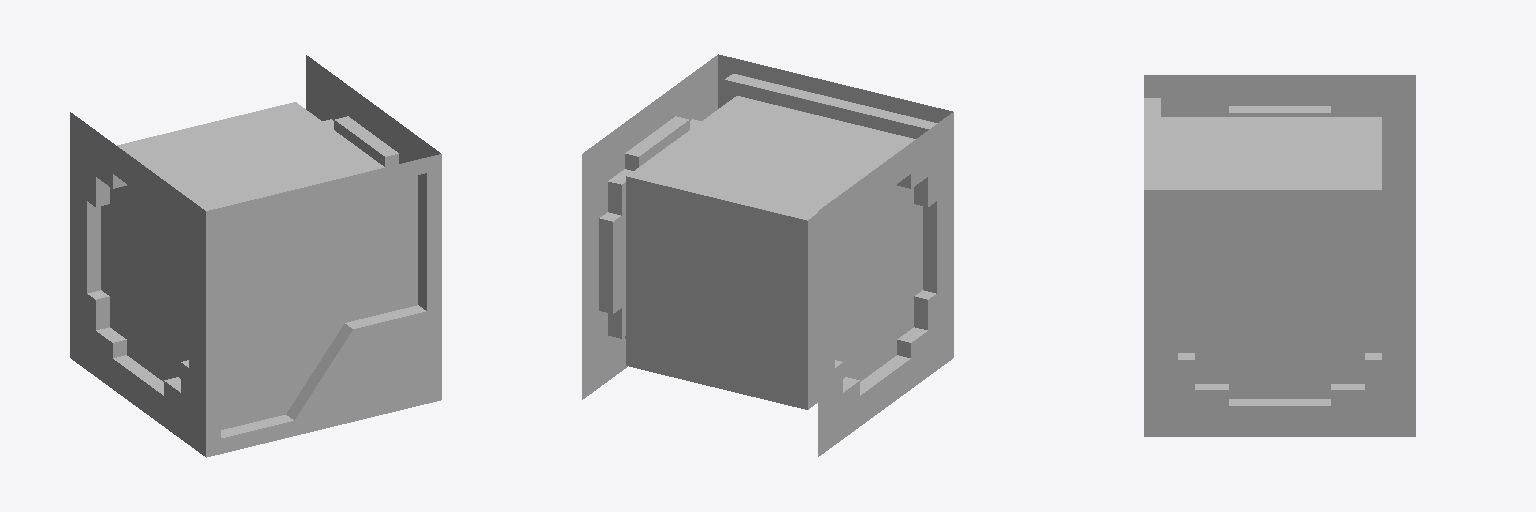
Rendered from replicator.obj.
3 views of the same model, side by side, from view 1: azimuth 30°, elevation 25°; view 2: azimuth 150°, elevation 25°; view 3: azimuth 270°, elevation 25° (orthographic).
Parts seen in each view (by area): view 1: Front, Vents, Inside; view 2: Inside, Vents, Front; view 3: Vents, Inside, Front.
Part boxes in pixels (x1,y1,x2,y2): Front: (206,154,441,457); Vents: (70,55,440,456); Inside: (117,102,384,210); Inside: (626,96,915,409); Vents: (582,55,953,456); Front: (718,54,952,138); Vents: (1144,75,1415,436); Inside: (1161,117,1381,189); Front: (1144,98,1160,189).
Size of the model in its own units: 1 by 1 by 1.